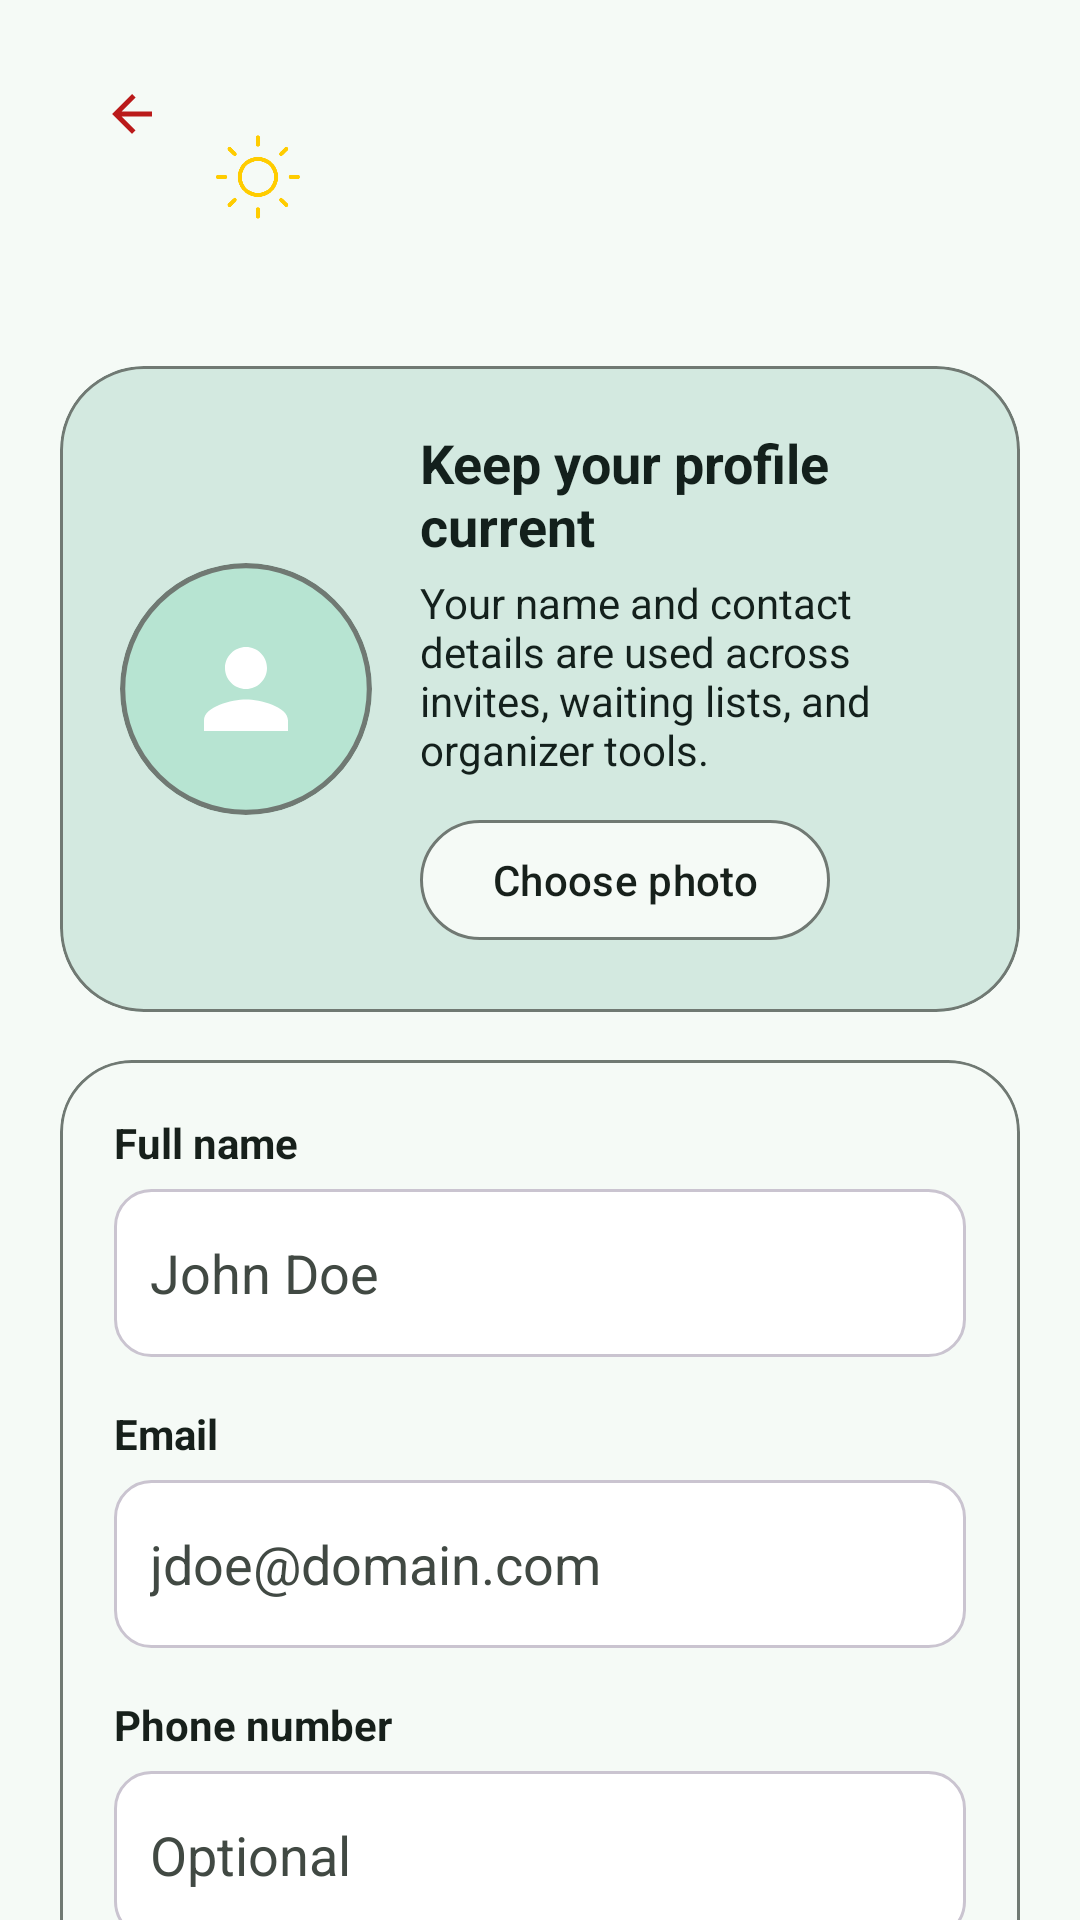

Where to tap for icons on this 1080px×1920px app screen, as (x,y):
arrow back: (132,114)
